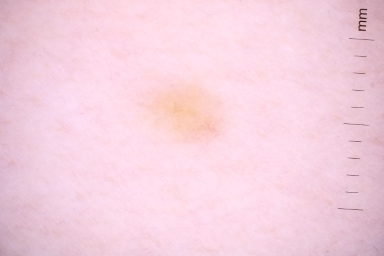nevus: (151, 87, 222, 142)
